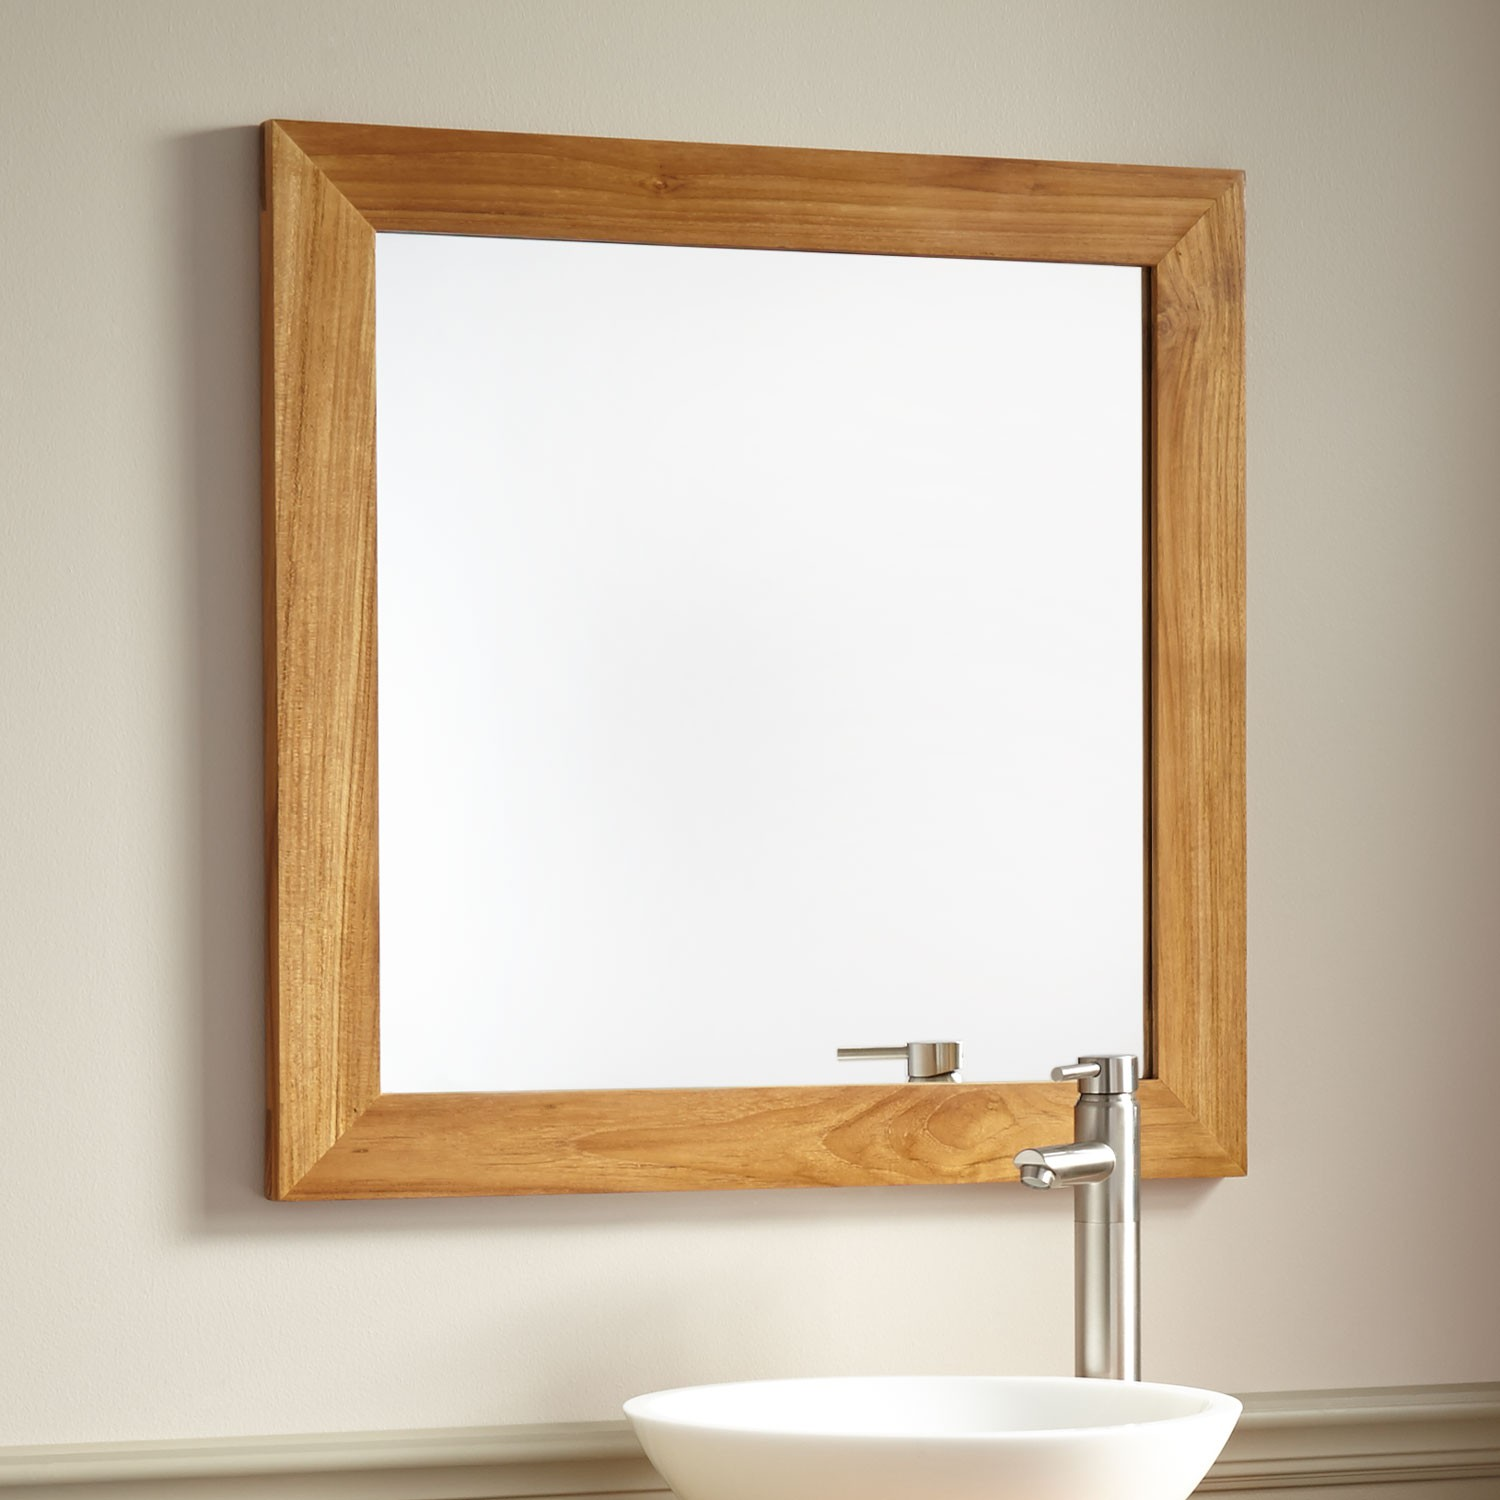Nonrec_Glass: (217, 115, 1268, 1180)
